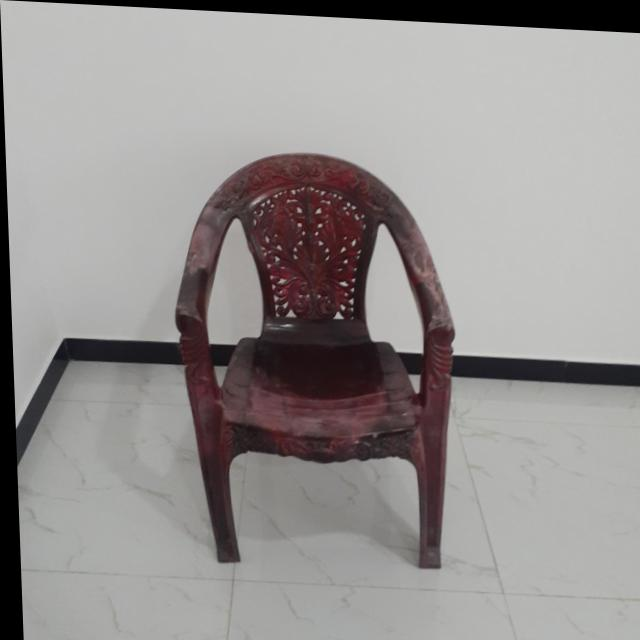Chair: (165, 143, 459, 573)
